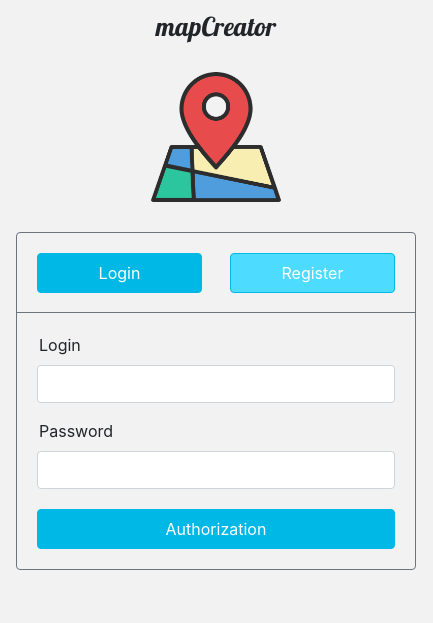
it: it should throw error that password is too short
Click the button "Register". click: (312, 273)
box: [230, 253, 395, 293]
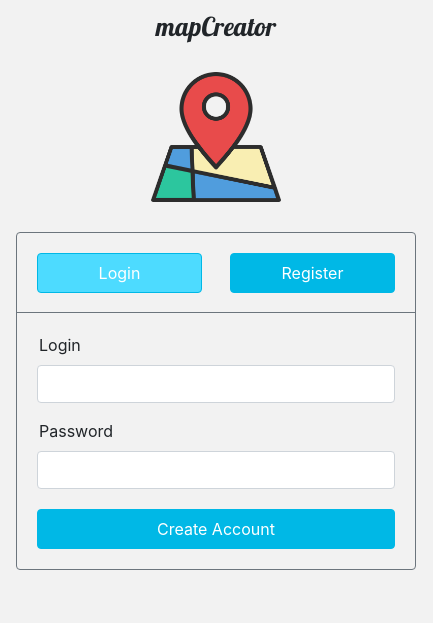
Type "user" into the field labelled "Login". click: (216, 384)
box: [37, 365, 395, 403]
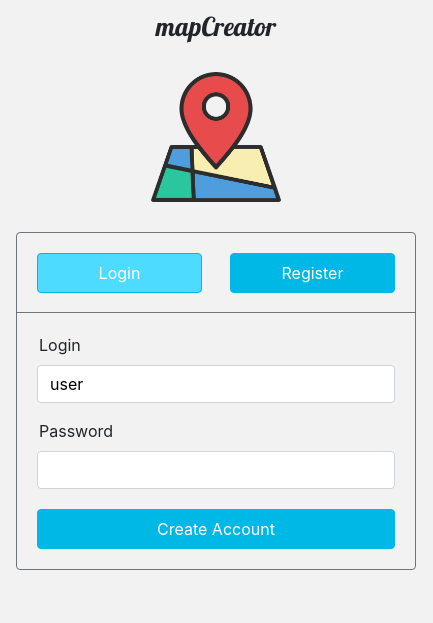
Type "Pass19!" into the password field labelled "Password". click: (216, 470)
box: [37, 451, 395, 489]
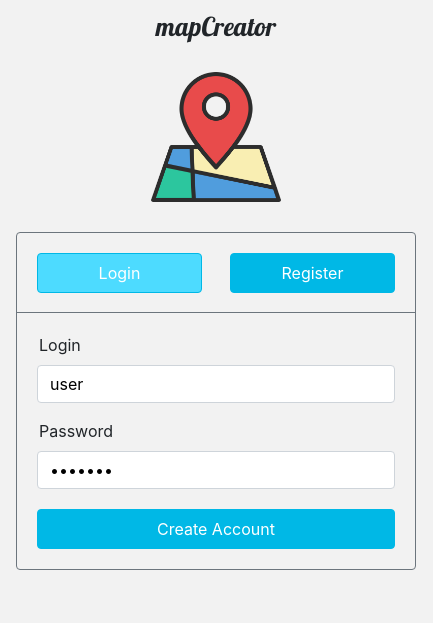
Click the button "Create Account". click: (216, 529)
box: [37, 509, 395, 549]
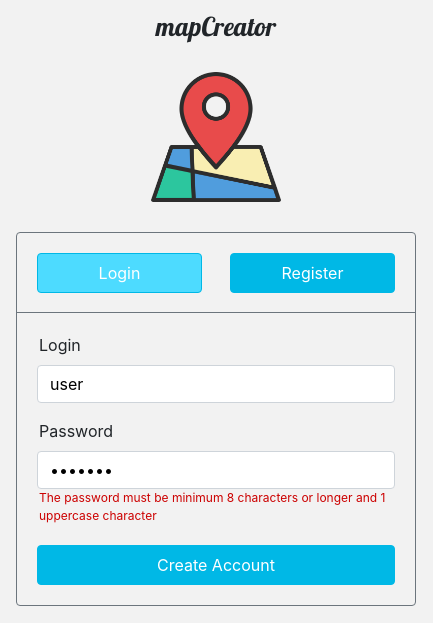
Check: the text "The password must be minimum 8 characters or longer and 1 uppercase character" is shown, box [39, 489, 395, 525]
